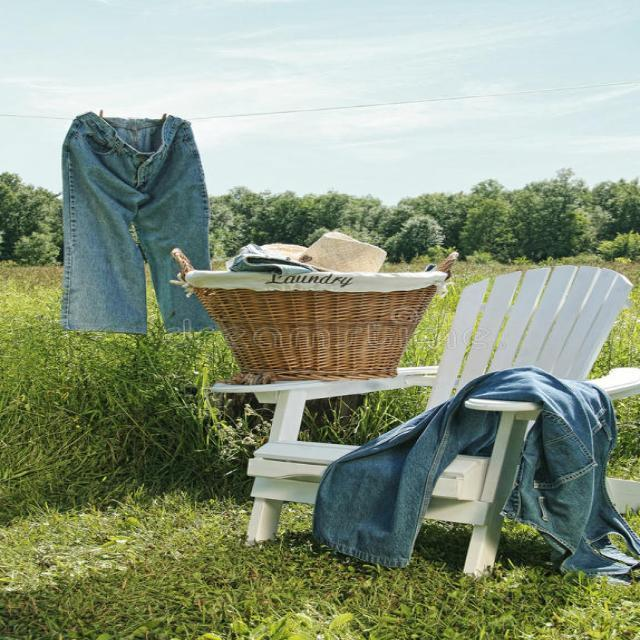clothes: (54, 140, 210, 342)
